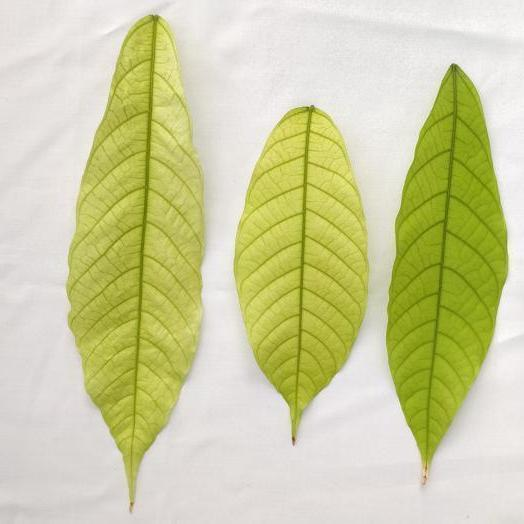Iron: (68, 16, 202, 509), (387, 64, 507, 482), (234, 106, 367, 443)
